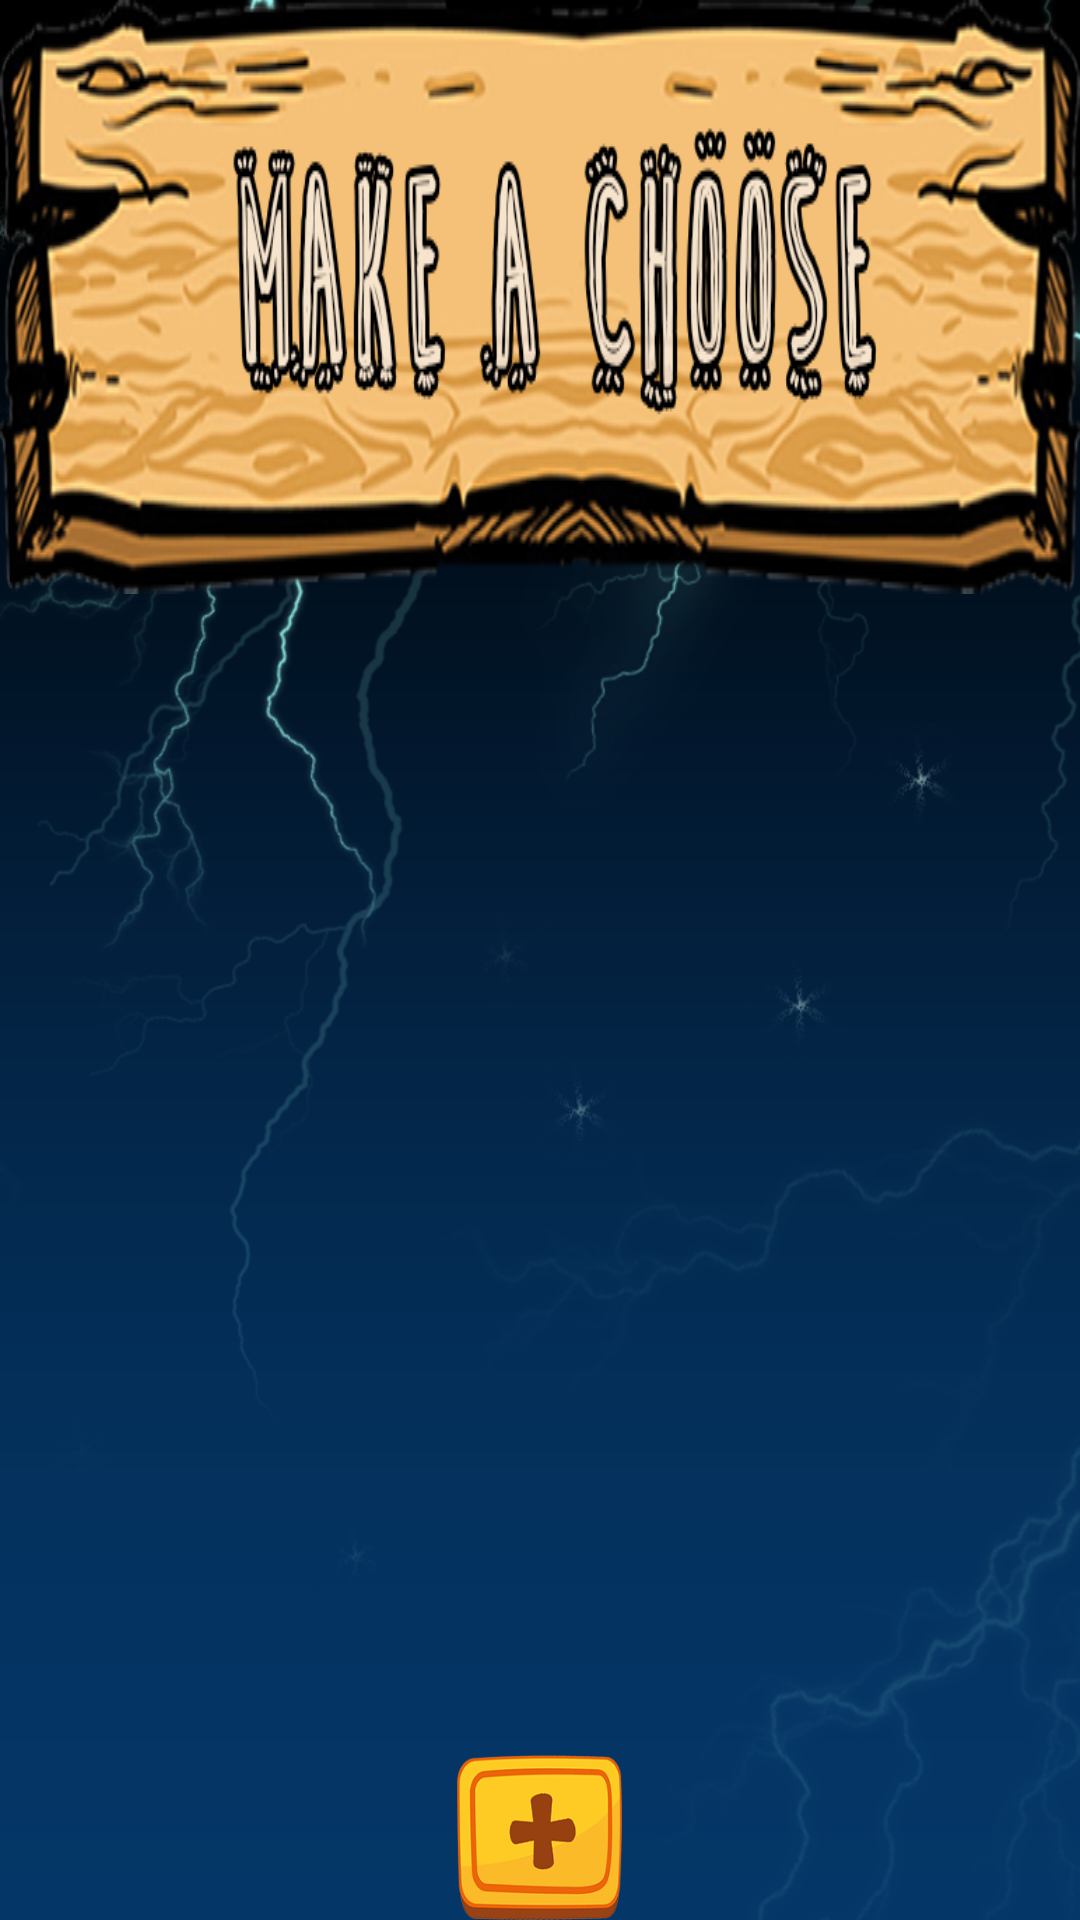

Named icons in this screenshot (1080 × 1920) and their centers, point (x, y):
addbutton: point (539, 1837)
